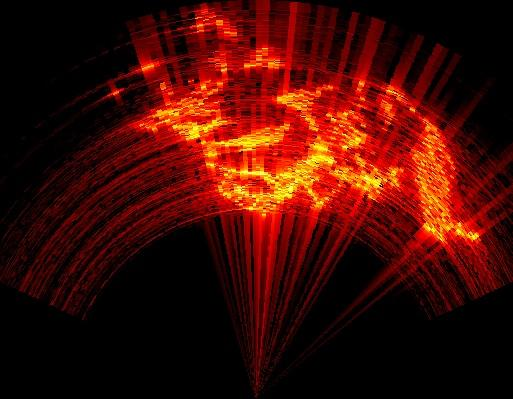shipwreck: (219, 112, 401, 212), (411, 121, 479, 241), (134, 87, 231, 143), (207, 128, 284, 166), (279, 87, 331, 110), (301, 112, 318, 132)
